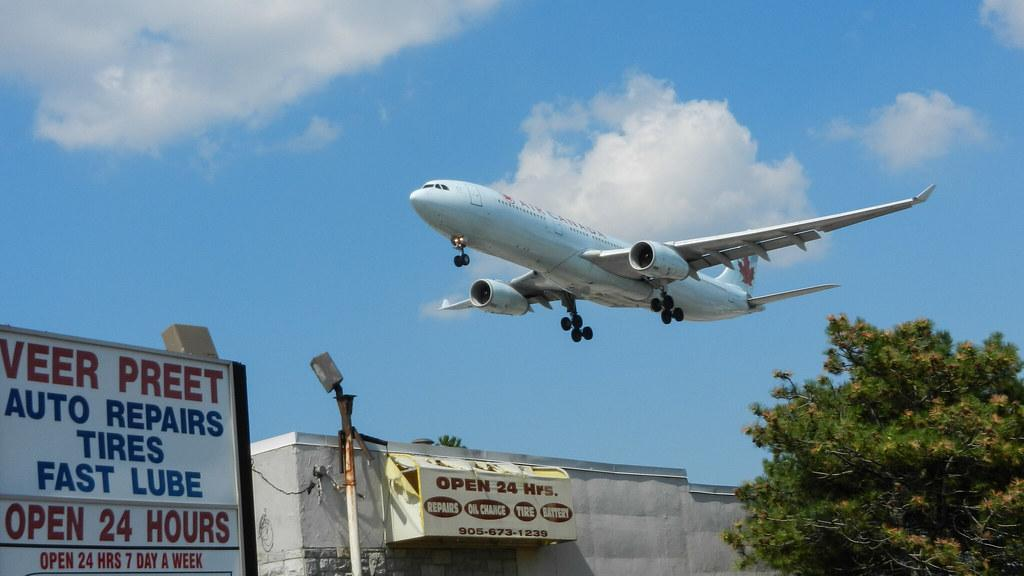plane: (408, 177, 937, 343)
